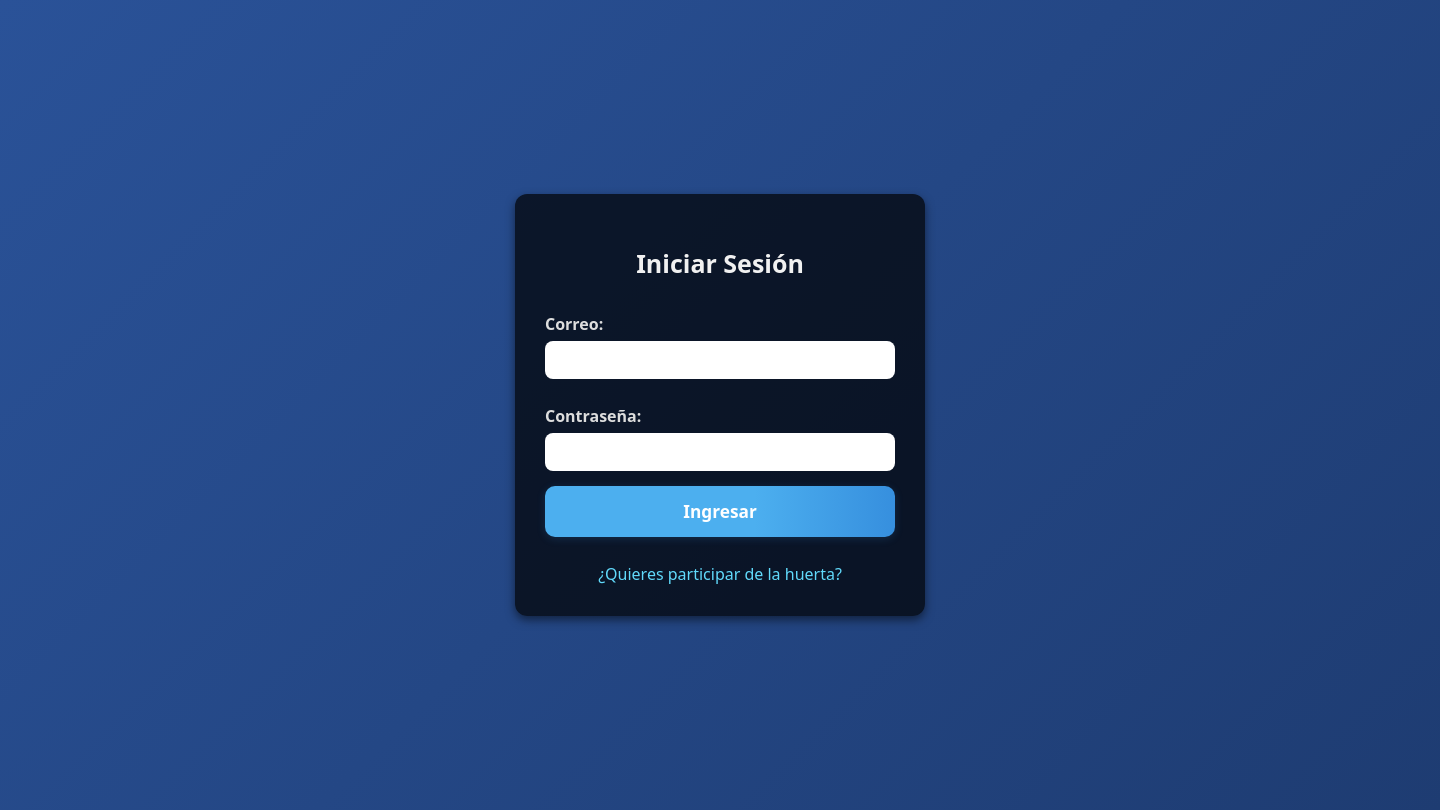
Test case: Componente: Login › Muestra error si el login falla
This screenshot has width=1440, height=810.
Step 1. Type "roberto@gmail.com" into the field labelled "Correo:" → (720,360), box [545,341,895,379]
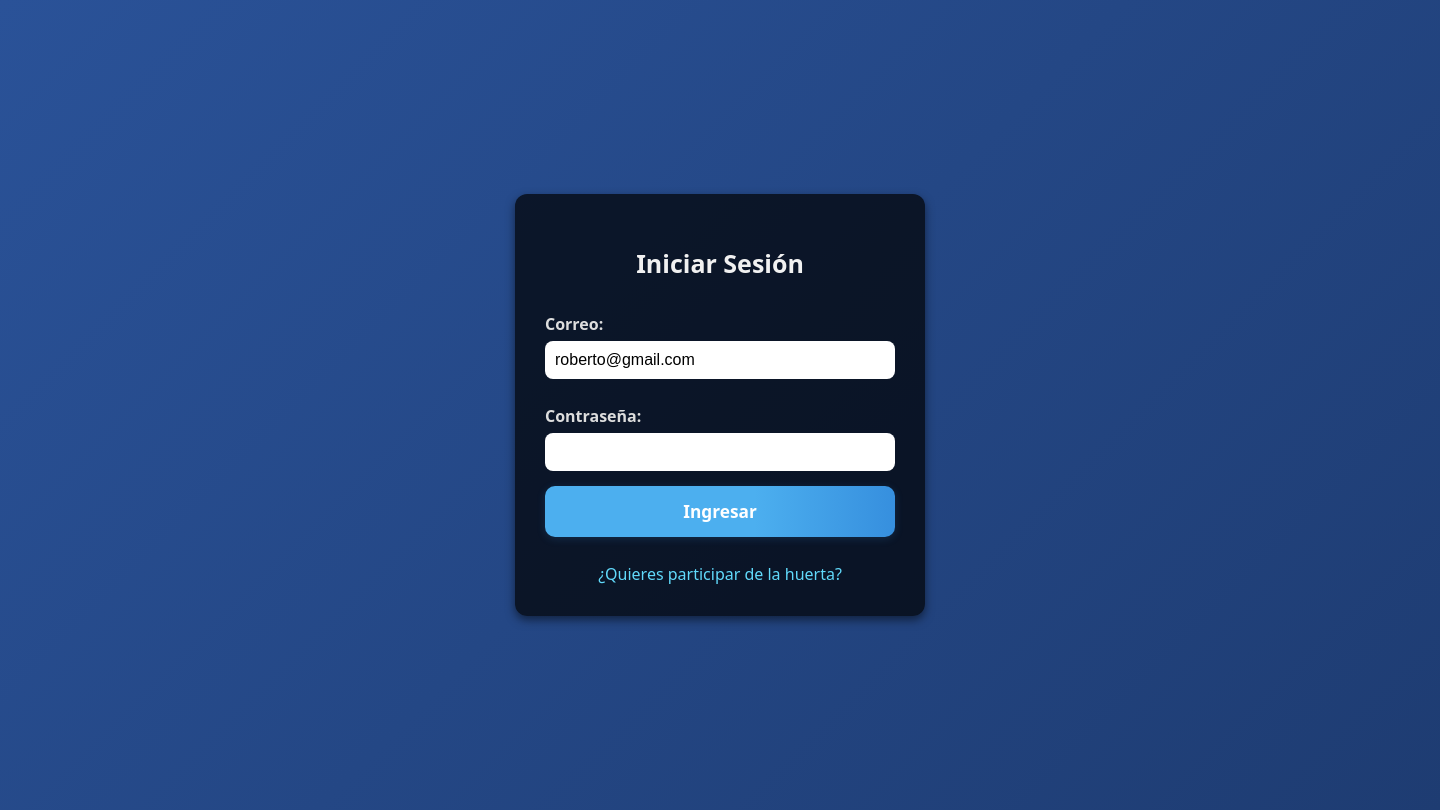
Step 2. Type "wrongpass" into the password field labelled "Contraseña:" → (720,452), box [545,433,895,471]
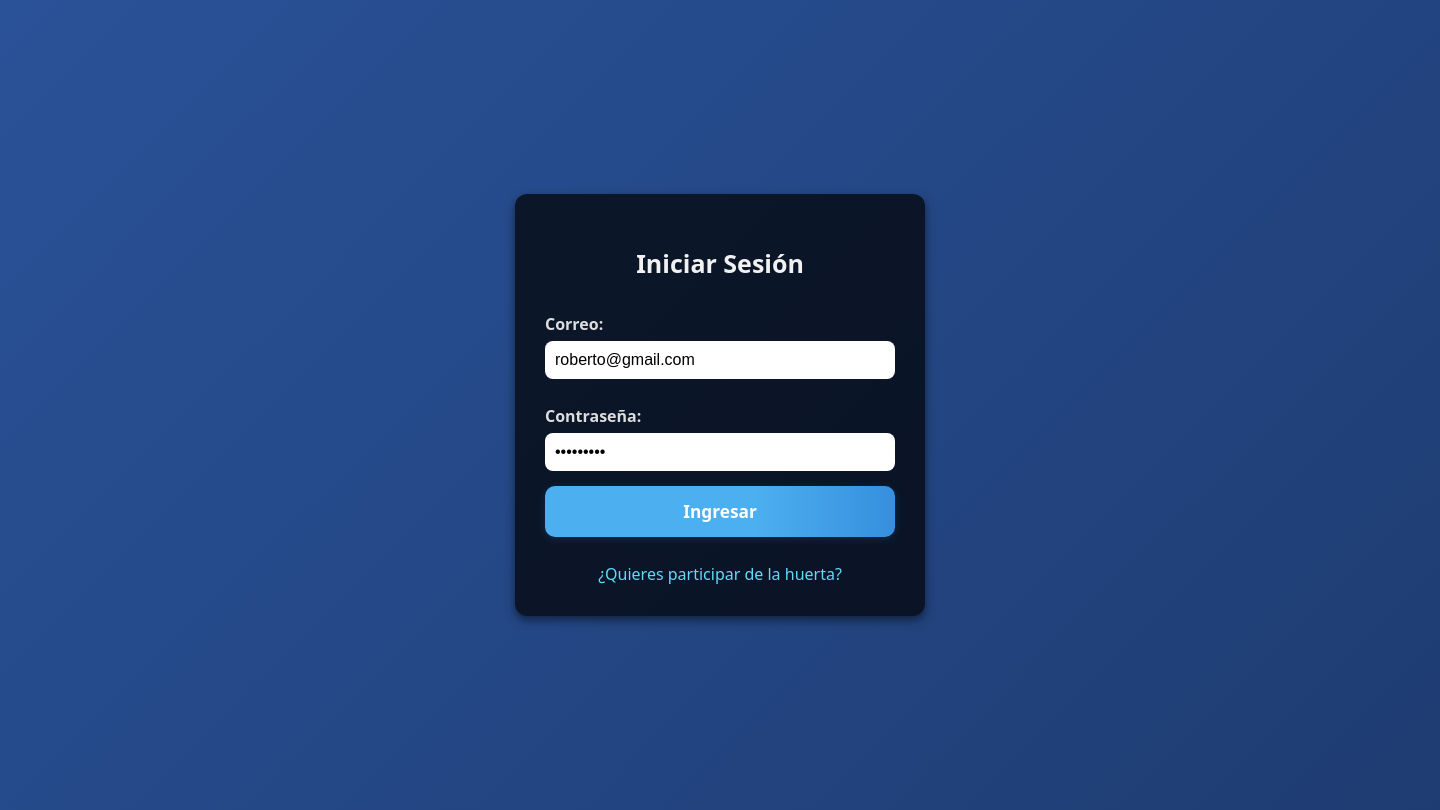
Step 3. Click the button "Ingresar" → (720,512), box [545,486,895,537]
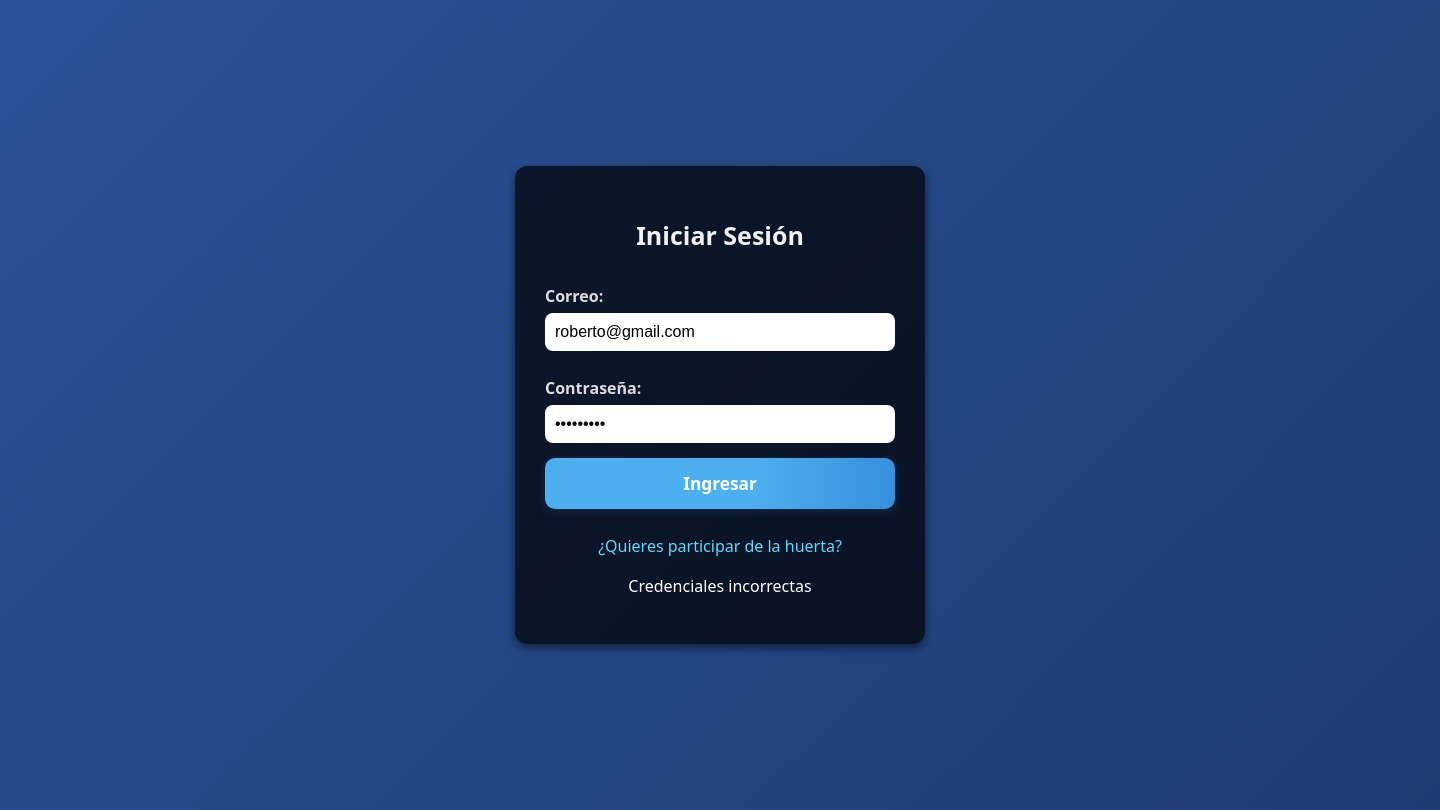
Now the text "Credenciales incorrectas" is shown, box [628,575,812,597]
